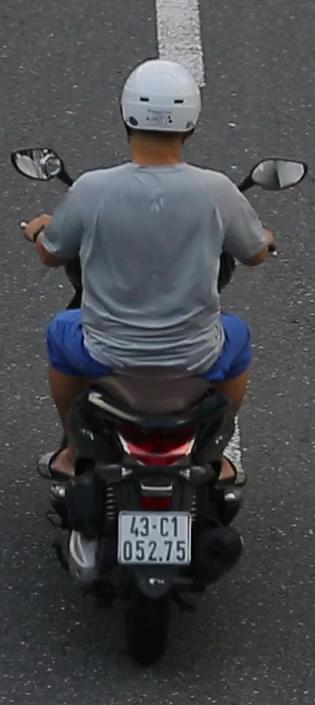LP: (110, 506, 199, 571)
helmet: (117, 52, 204, 162)
